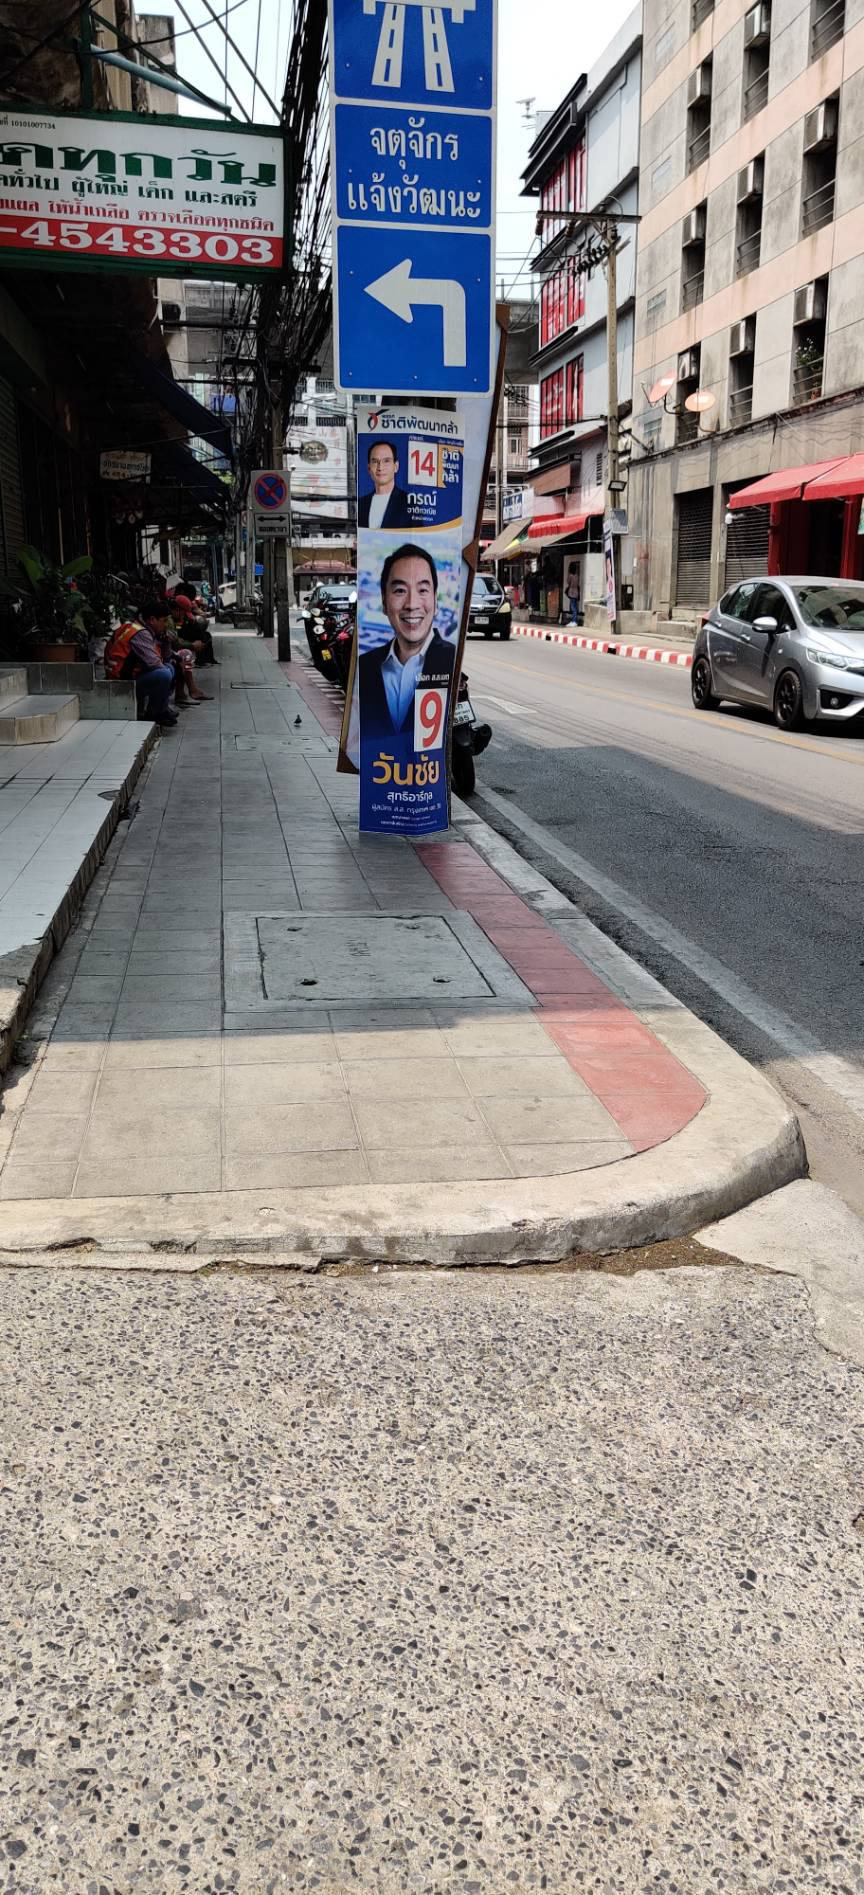Banner: (334, 400, 482, 860)
